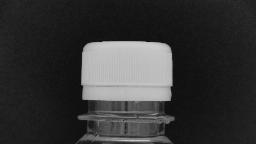Loose Cap: (68, 82, 180, 126)
